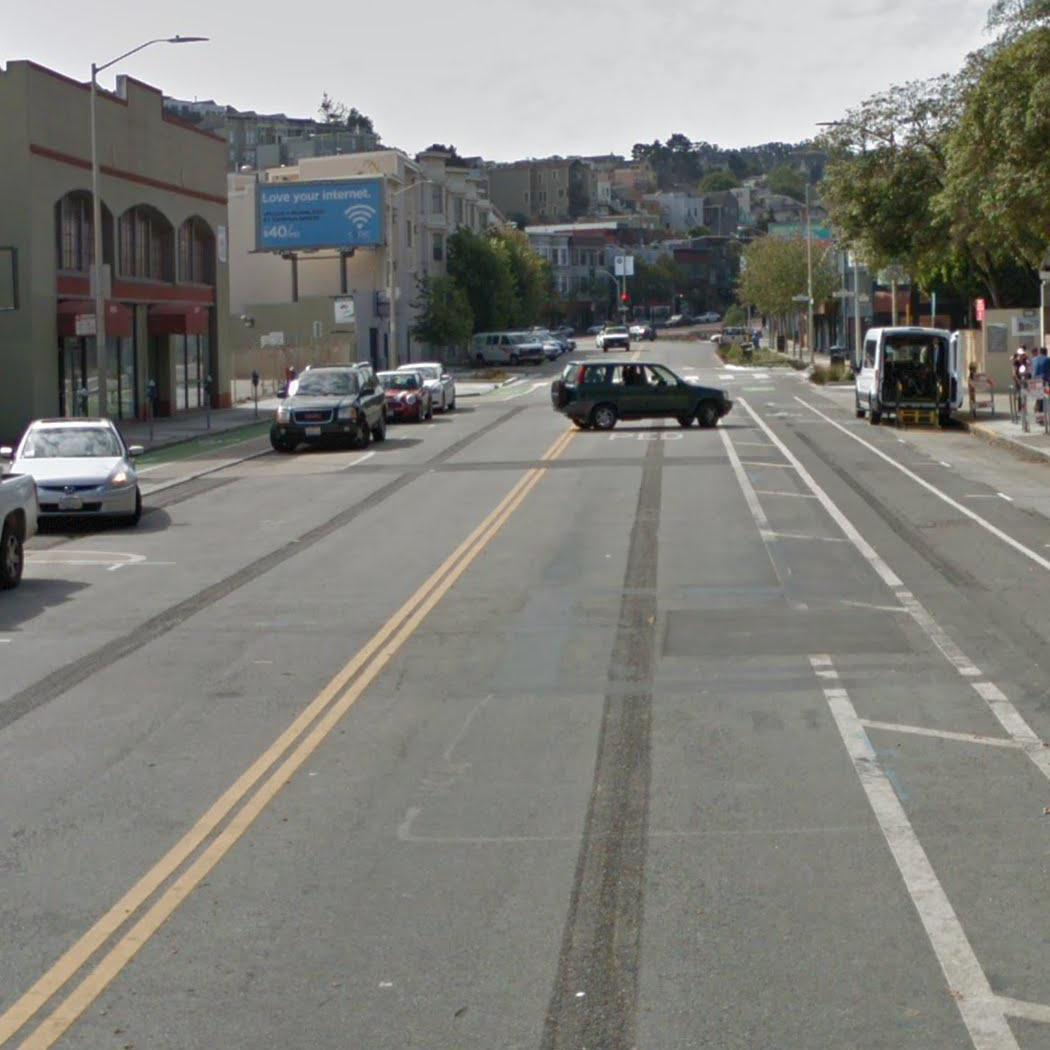No Parking: (74, 311, 100, 336)
